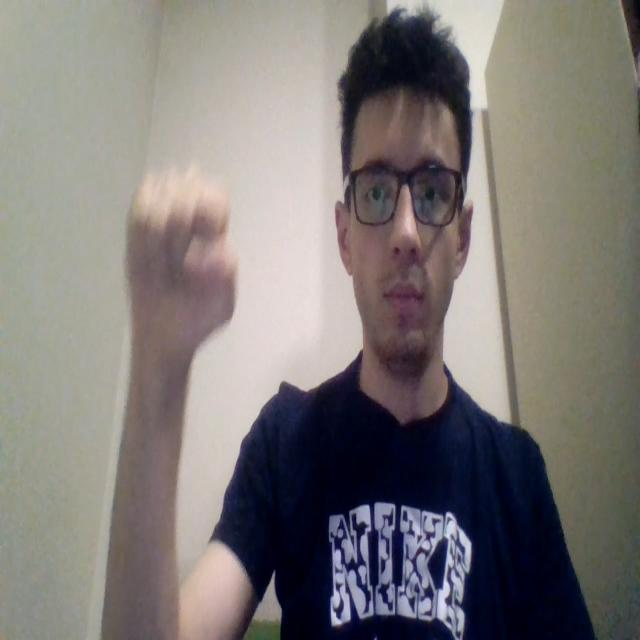yes: (124, 159, 238, 378)
